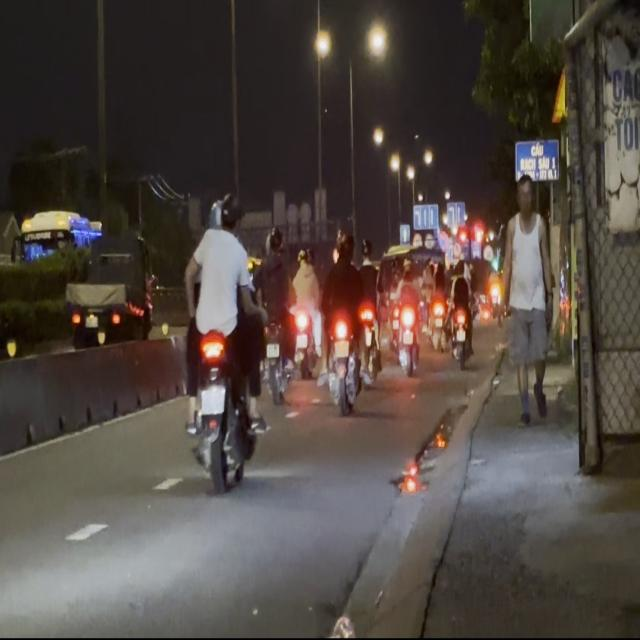helmet: (219, 194, 247, 237), (206, 197, 223, 231)
licenseplate: (178, 190, 265, 491)
nohelmet: (200, 386, 224, 414)
